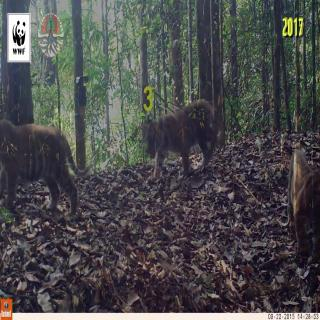Tiger: (1, 115, 86, 220), (144, 110, 215, 174)
